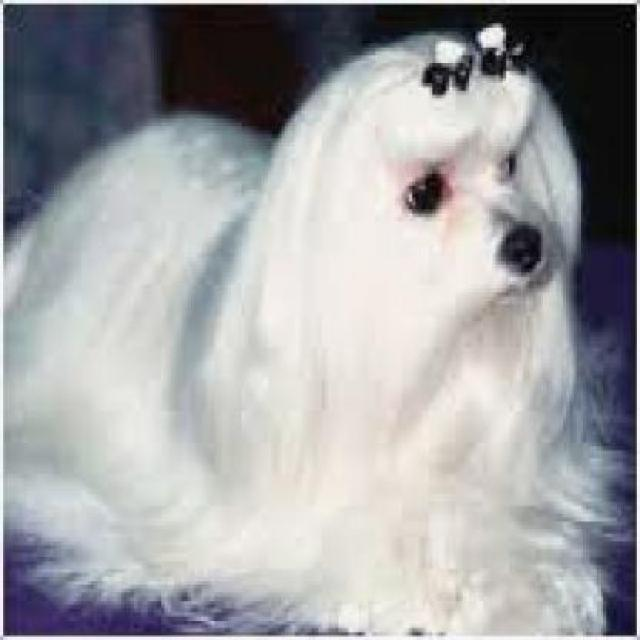Dog: (8, 23, 629, 632)
